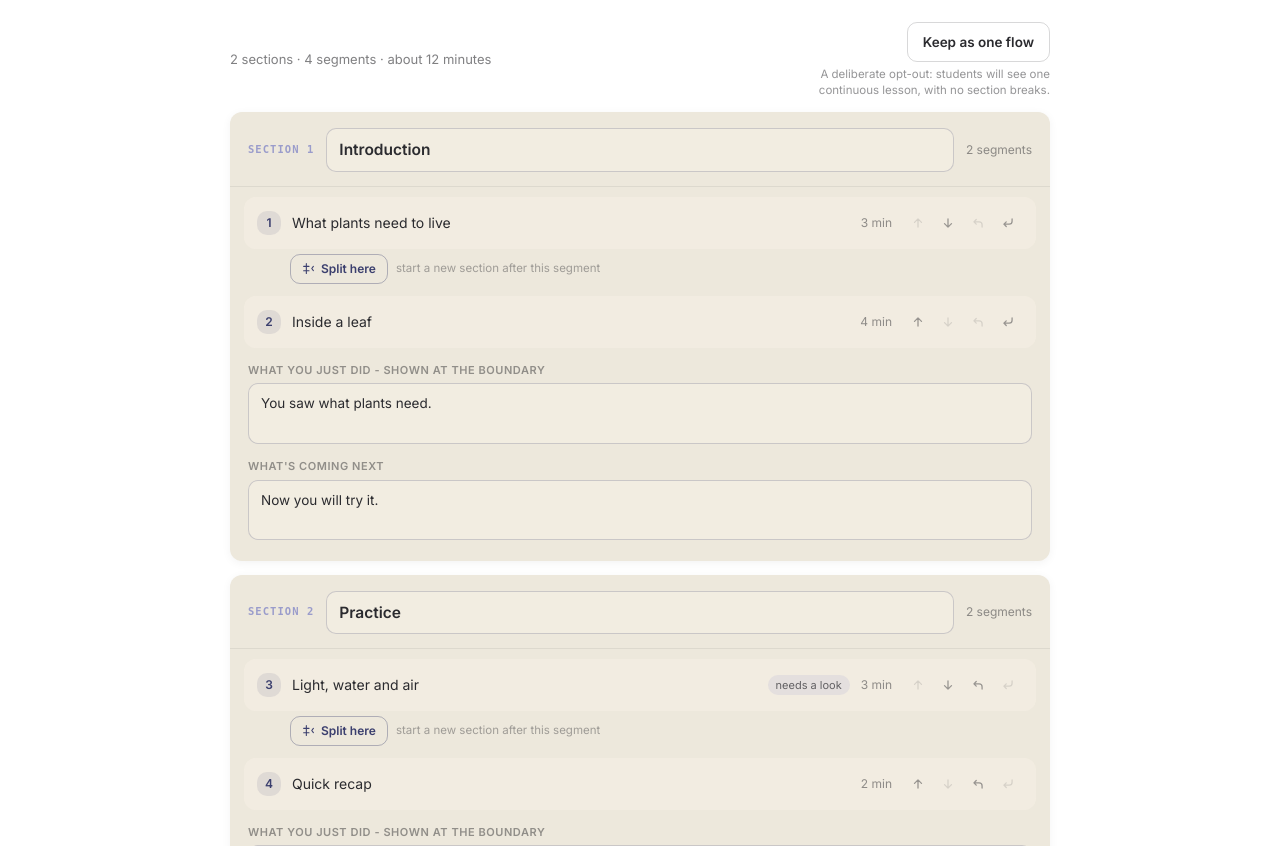
Test: keeping it as one flow › gives the teacher their own grouping back, not Nevo's
This screenshot has width=1280, height=846.
Replace the text in the field named "Section 1 title" with "Getting started": (640, 150) [326,128,954,172]
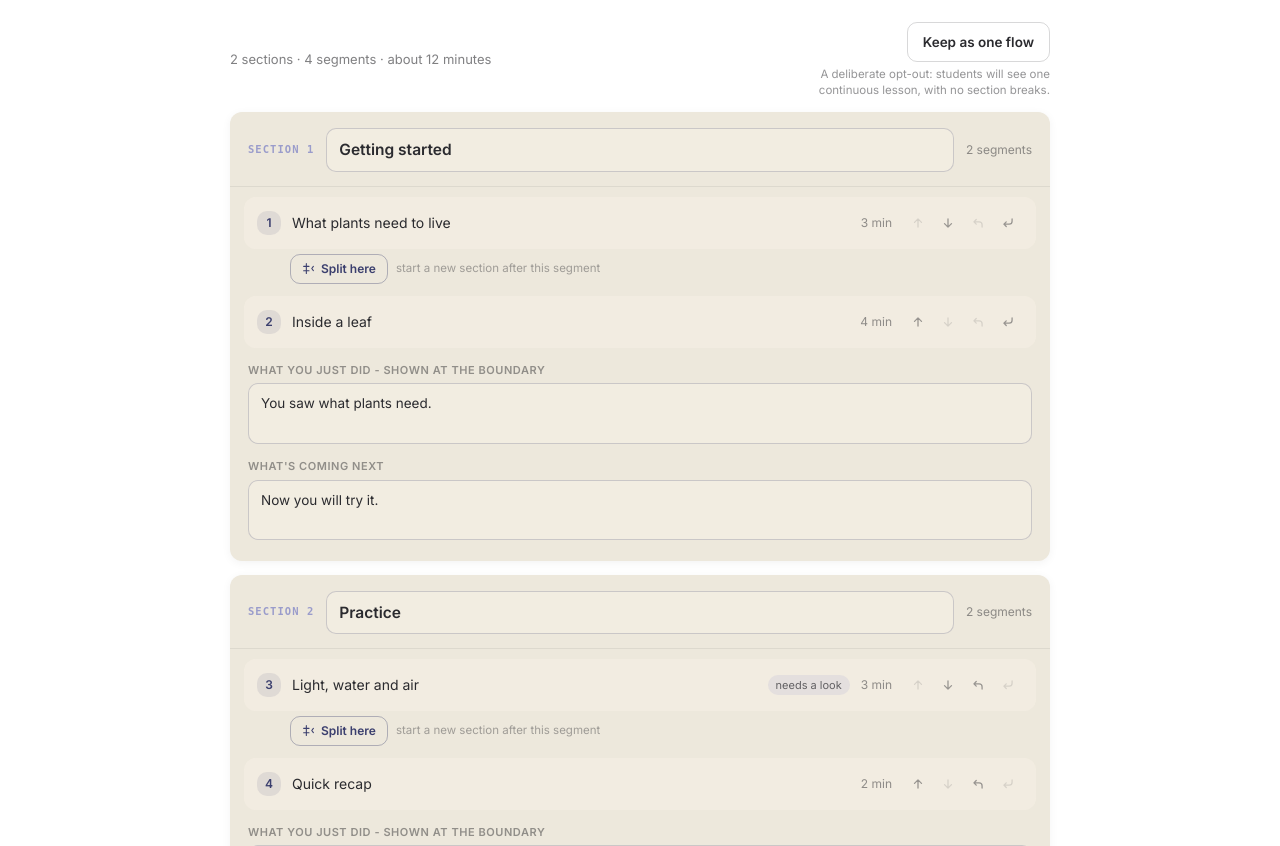
Click the button "Keep as one flow": click(978, 42) [907,22,1050,62]
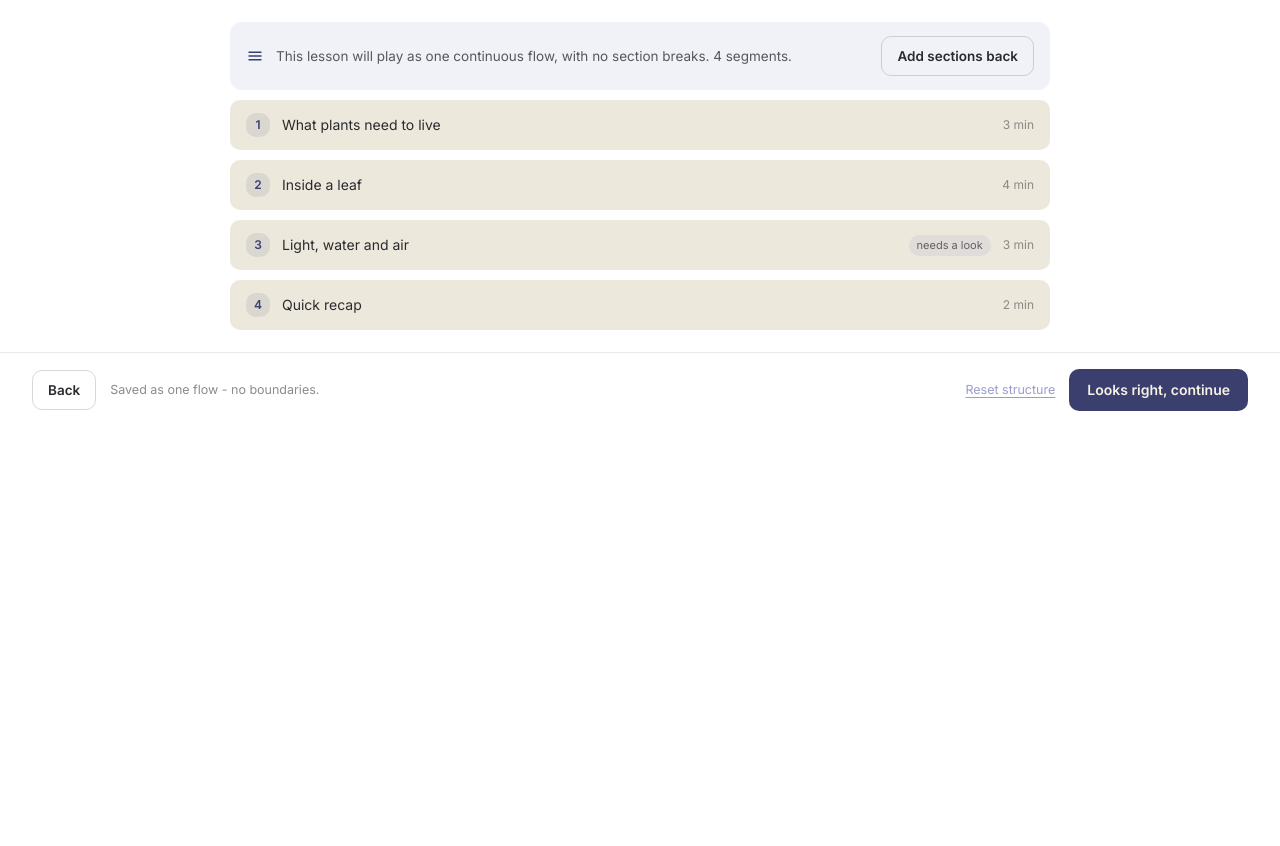
Click the button "Add sections back": click(958, 56) [881,36,1034,76]
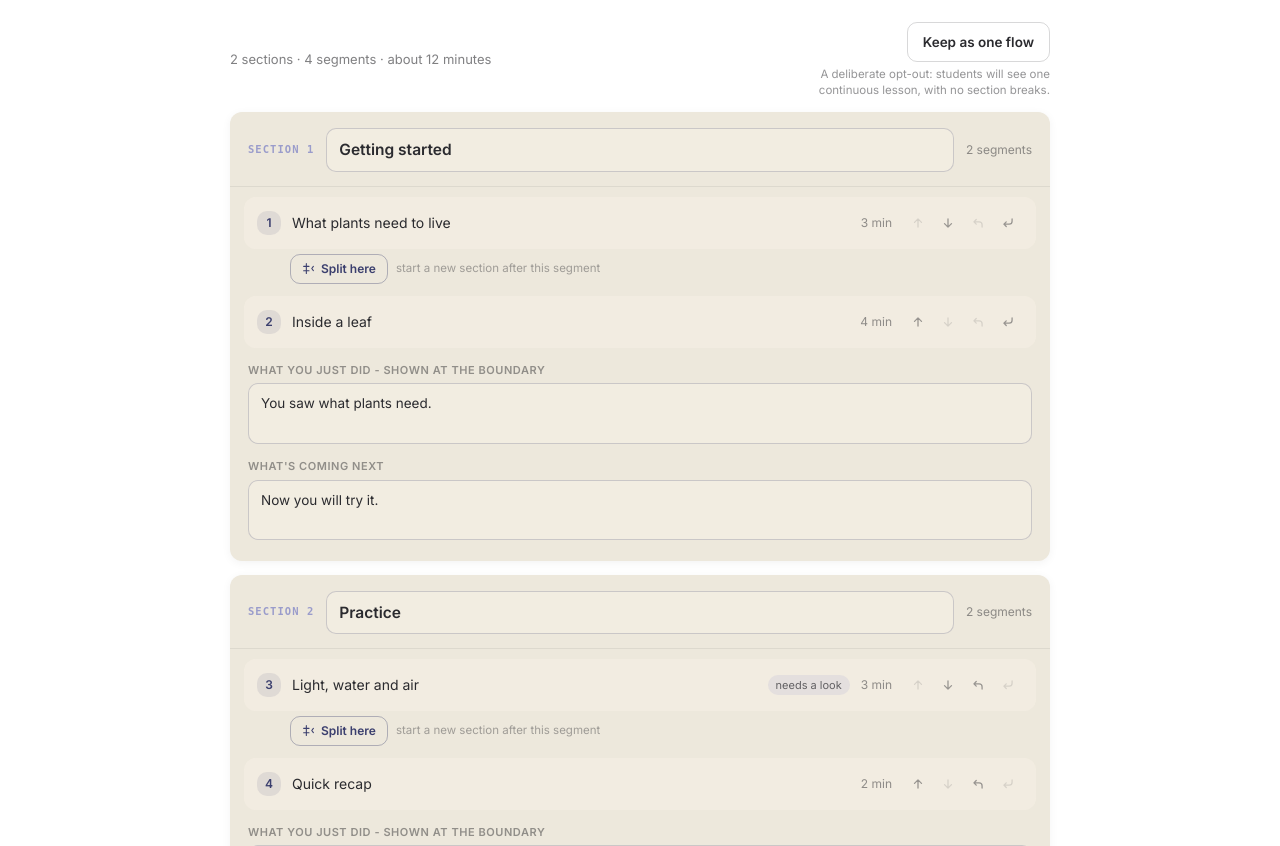
Result: the field showing "Getting started" is shown at [326,128,954,172]
